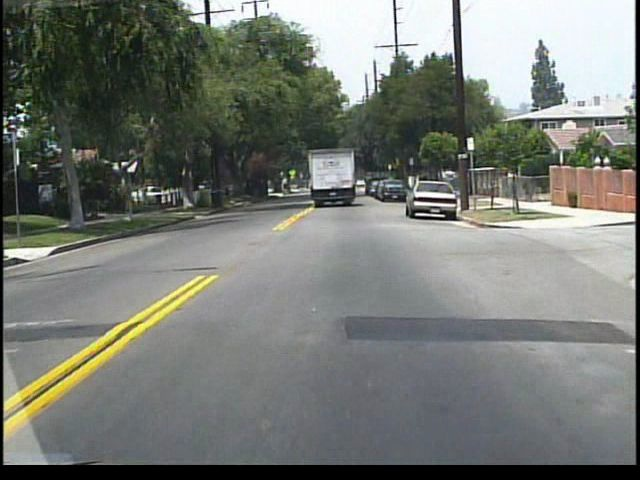person: (502, 164, 517, 200)
